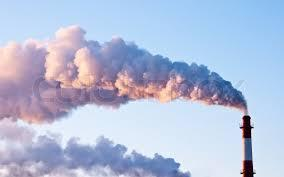smoke: (0, 20, 251, 177)
